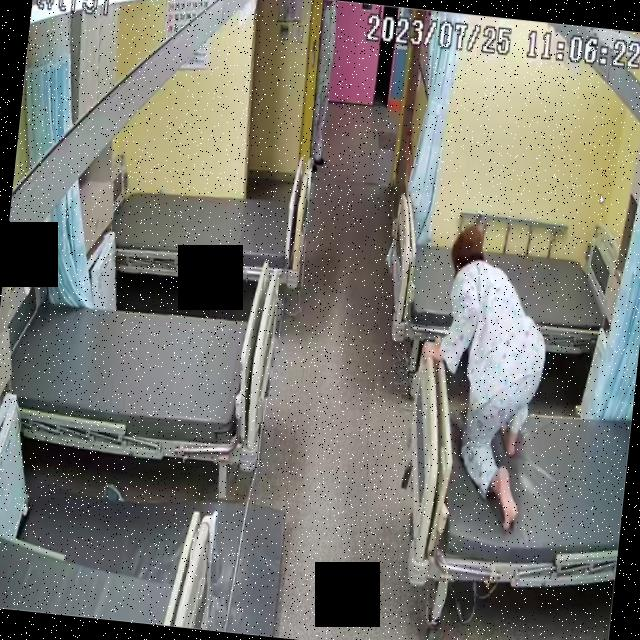bed: (393, 334, 638, 602), (1, 286, 278, 465), (380, 220, 626, 363), (110, 171, 308, 288)
danger: (408, 222, 556, 517)
patient: (408, 223, 558, 527)
